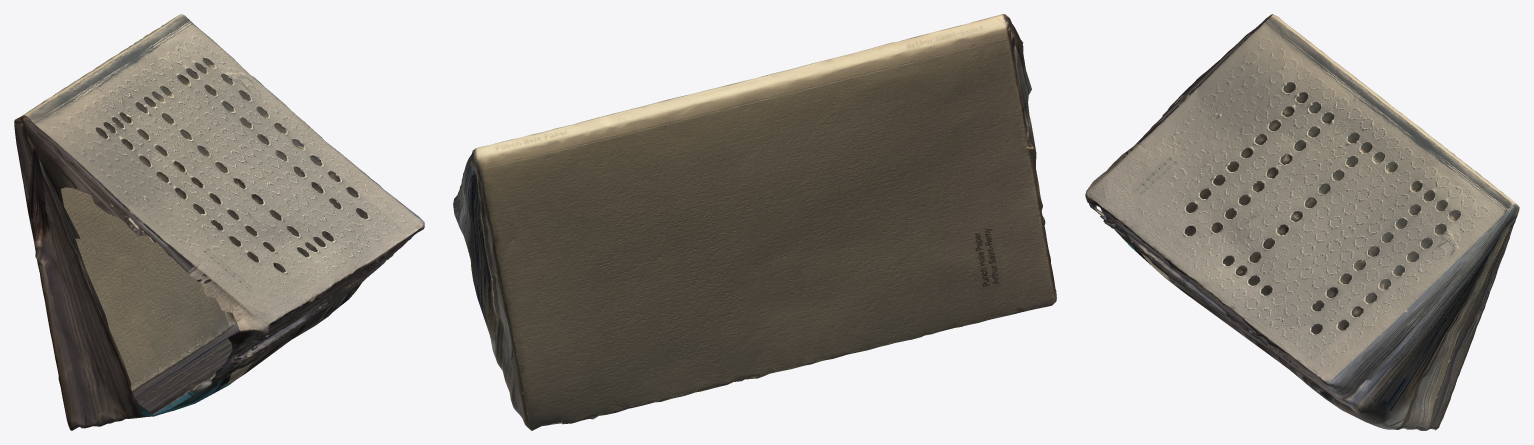
The model's file is PHP.glb.
3 views of the same model, side by side, from view 1: azimuth 30°, elevation 25°; view 2: azimuth 150°, elevation 25°; view 3: azimuth 270°, elevation 25° (orthographic). The views are drawn at different scales.
Visible parts, largest first — view 1: PHP; view 2: PHP; view 3: PHP.
Boxes of the visible parts, bbox=[...] form: PHP: bbox=[14, 14, 424, 430]; PHP: bbox=[453, 14, 1056, 430]; PHP: bbox=[1085, 14, 1519, 430].
Size of the model in its own units: 0.8459 by 0.6567 by 0.8804.
1 material, 1 textured.
